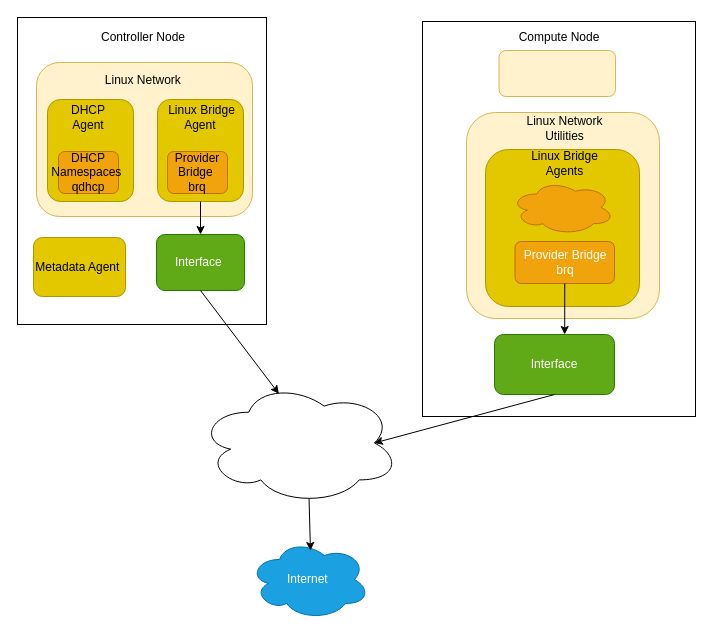
Image size: 713x637. Some labels were removed from this diagram. The box of each missing label's shape, as (x1, y1, x2, y2) in pixels:
Instance: (498, 50, 616, 96)
Physical Network: (198, 380, 400, 504)
Security Group: (510, 180, 614, 234)
